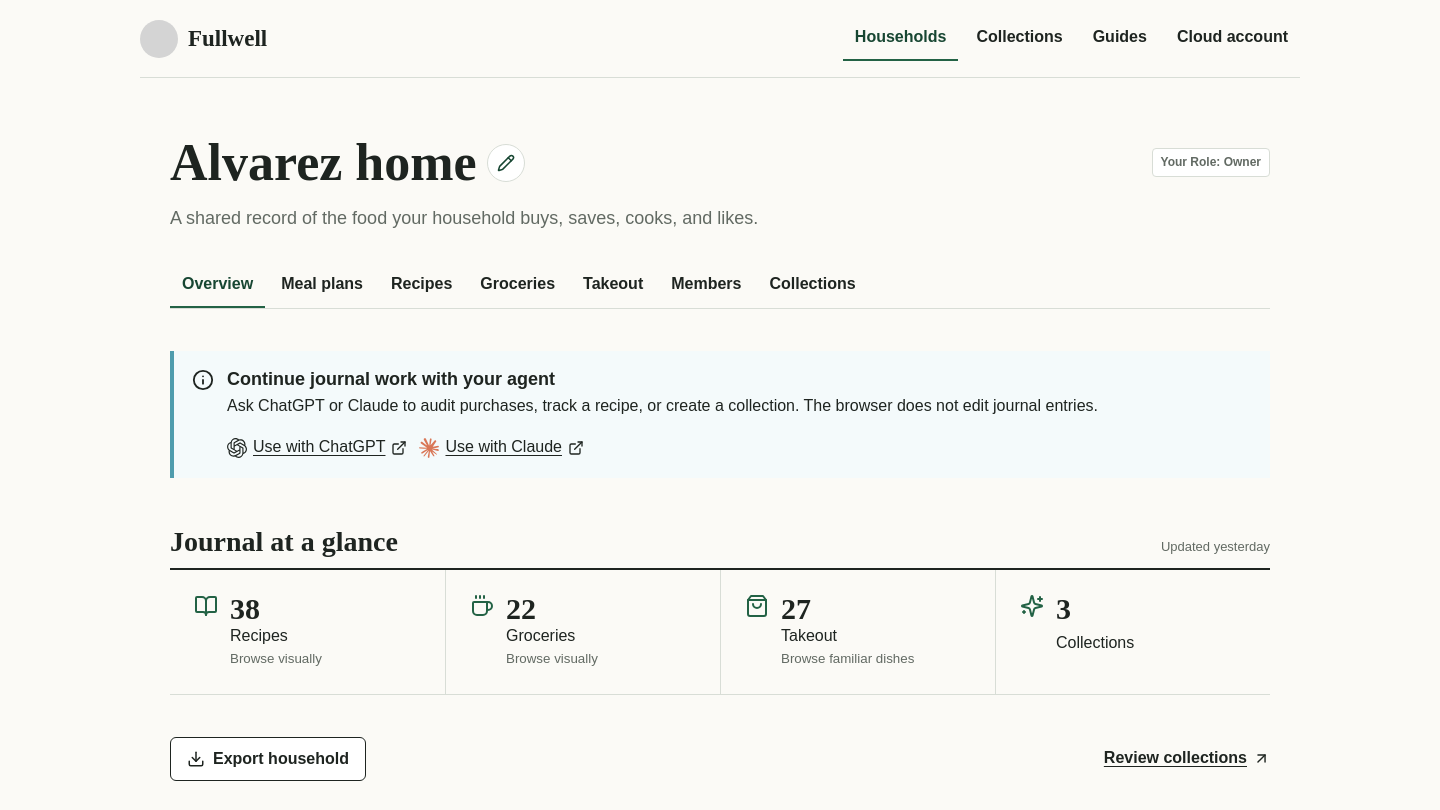
Test: web experience › opens an owner household-name dialog with the current name selected and restores focus on cancel
Click the button named "Edit household name".
click(506, 162)  # box [487, 144, 525, 182]
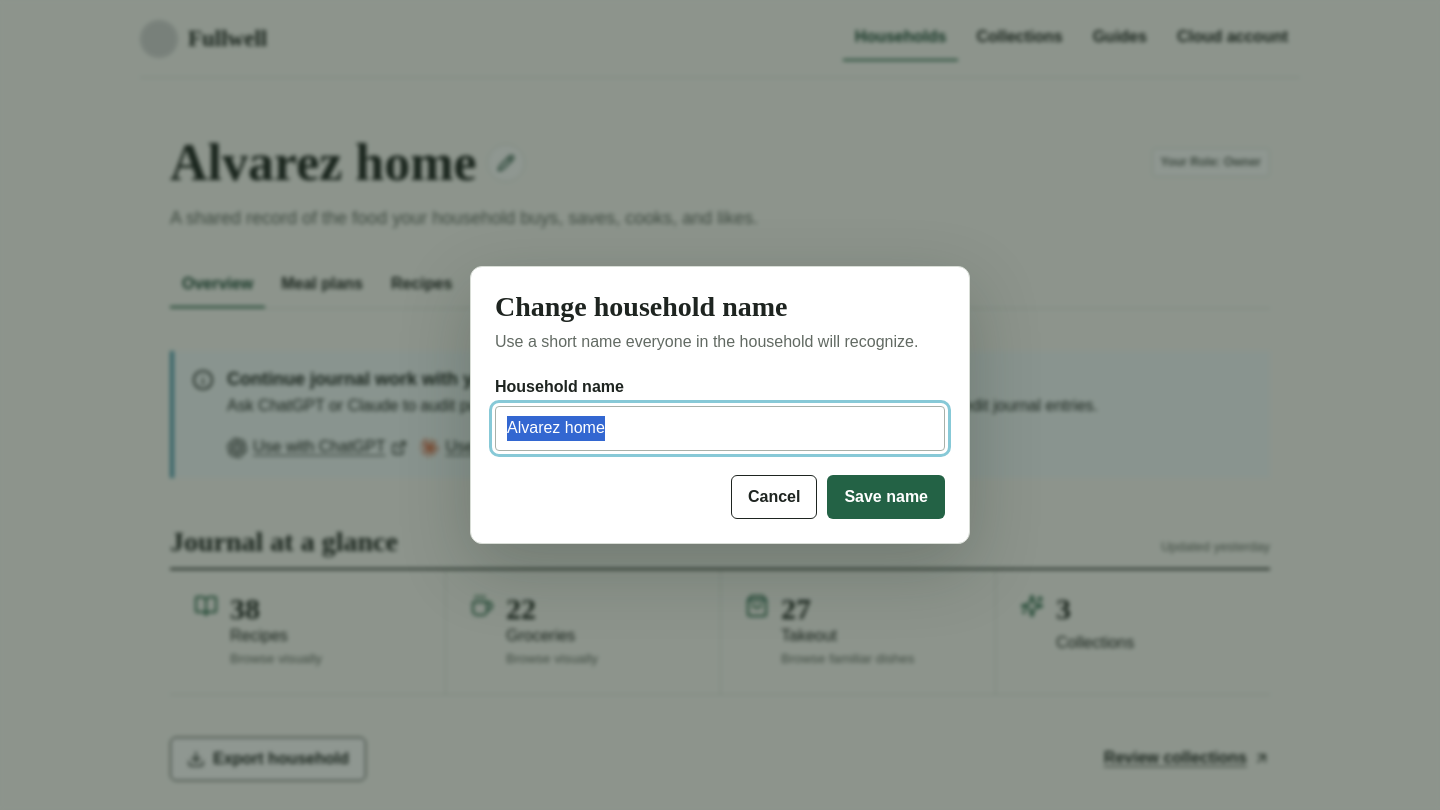
Expected: the dialog "Change household name" is shown, [470, 266, 970, 544]
Expected: the field labelled "Household name" holds "Alvarez home", [495, 406, 945, 451]
Click the button "Cancel".
click(774, 497)  # box [731, 475, 817, 519]
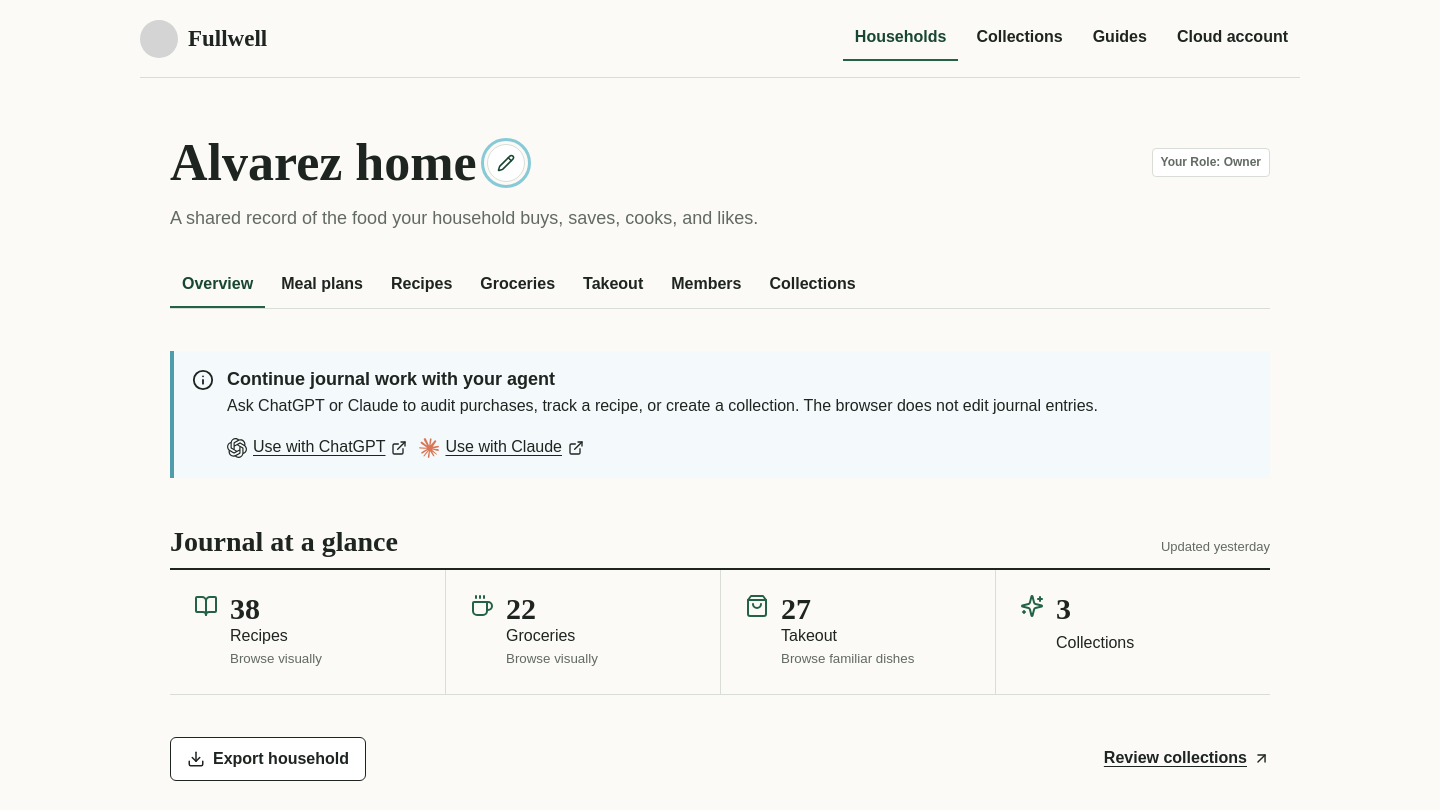
Expected: the heading "Change household name" is gone
